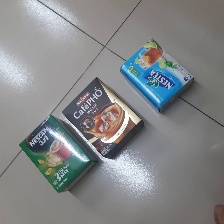CF pho: (63, 77, 143, 157)
Nes Rang: (19, 115, 98, 194)
Nestea: (118, 38, 194, 111)
